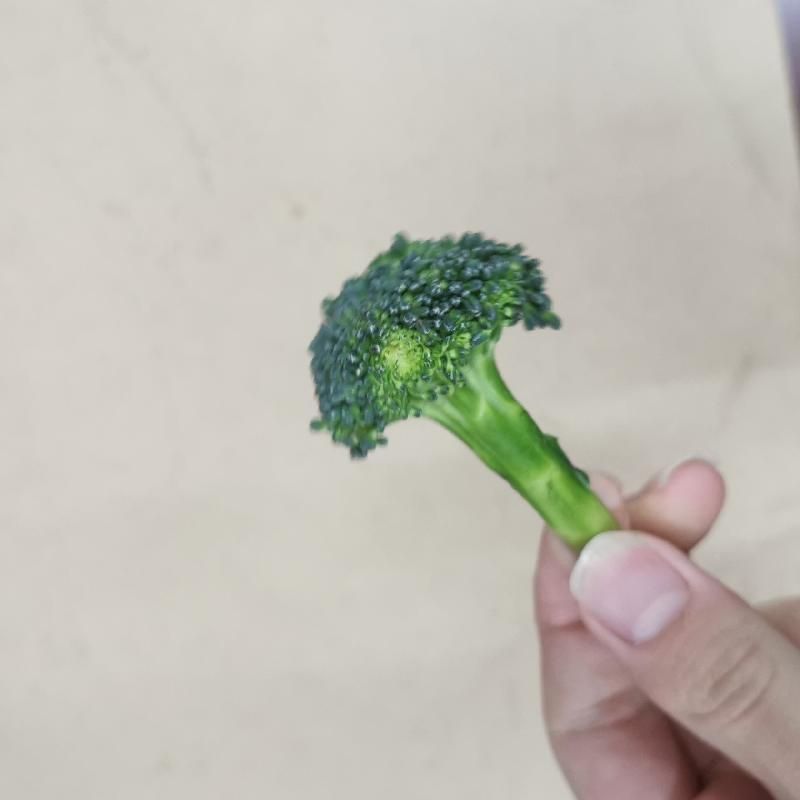broccoli: (301, 224, 637, 558)
